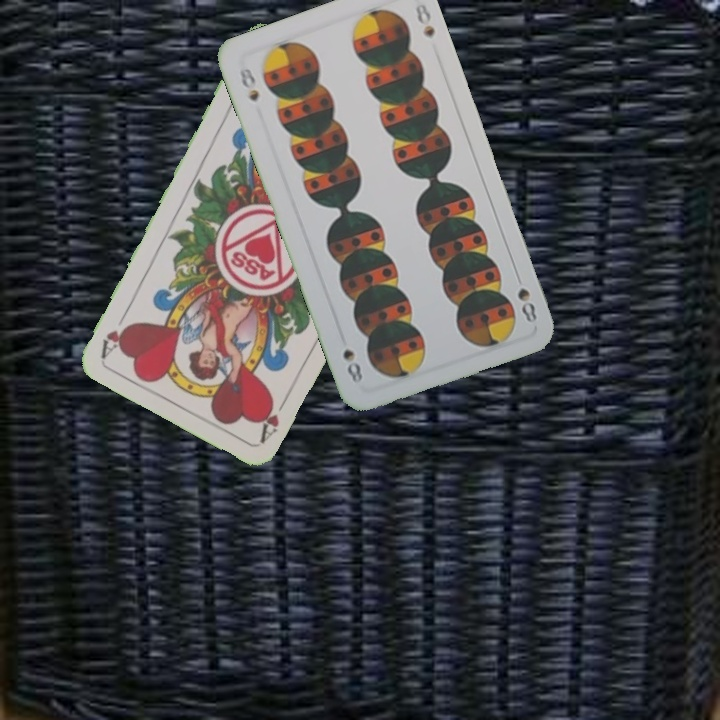HA: (253, 389, 293, 444)
S8: (511, 269, 540, 326), (235, 62, 262, 105)
